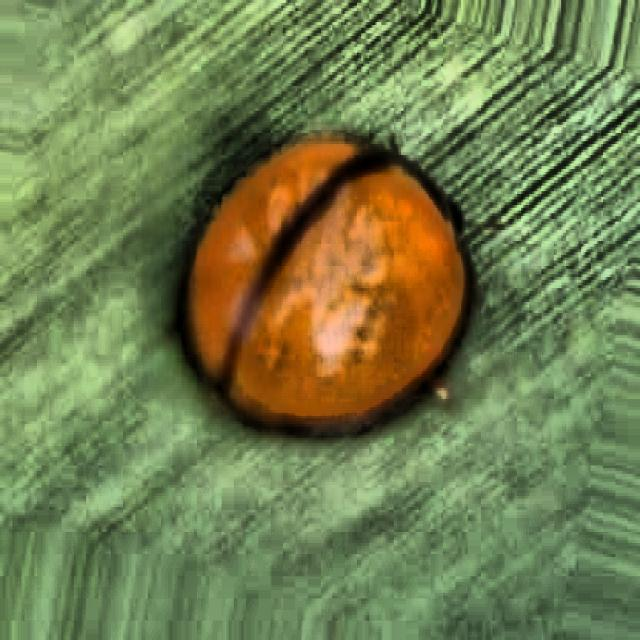Ladybug: (111, 42, 528, 491)
